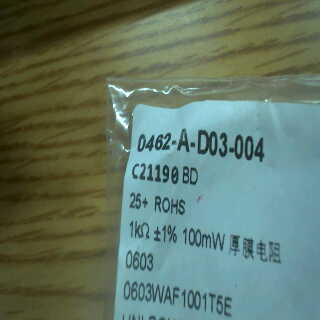1kR: (124, 217, 154, 238)
